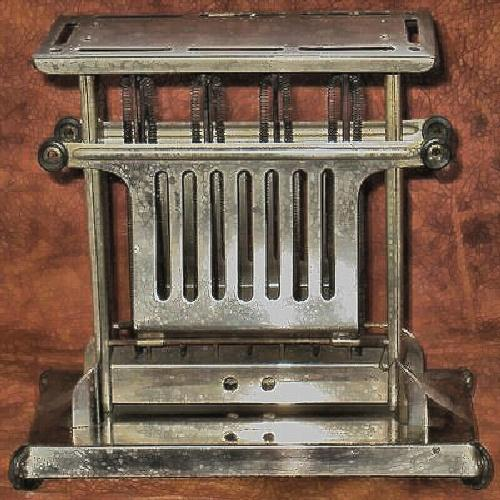toaster: (51, 29, 469, 475)
